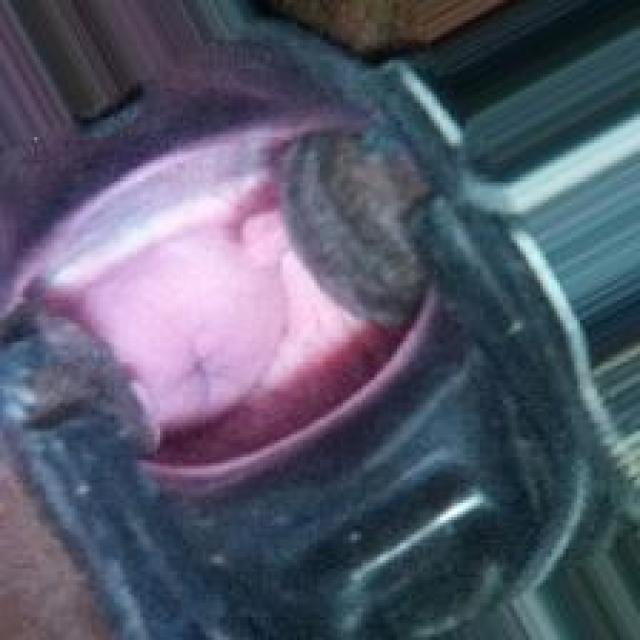type-3: (16, 38, 478, 488)
